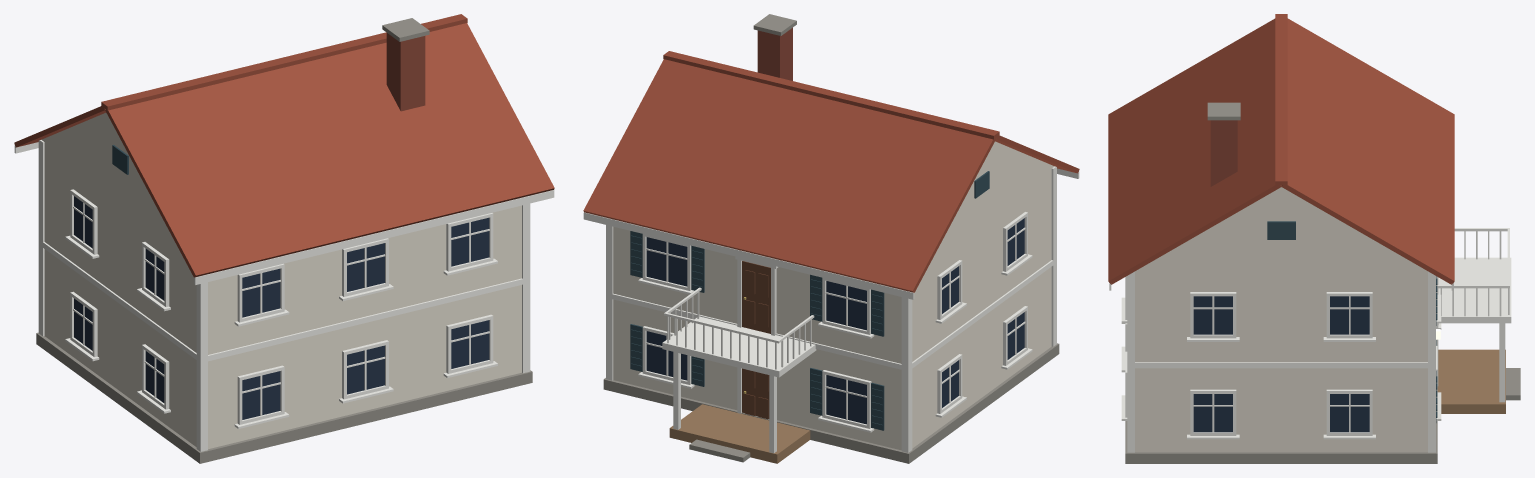
Rendered from house_2f.glb.
3 views of the same model, side by side, from view 1: azimuth 30°, elevation 25°; view 2: azimuth 150°, elevation 25°; view 3: azimuth 270°, elevation 25° (orthographic). The views are drawn at different scales.
Visible parts, largest first — view 1: house_2f__Body; view 2: house_2f__Body; view 3: house_2f__Body.
Boxes of the visible parts, <box> form: house_2f__Body: <box>14,14,554,463</box>; house_2f__Body: <box>583,14,1079,463</box>; house_2f__Body: <box>1108,14,1520,463</box>.
Bounding box in the file's own units: 11.04 × 9.82 × 11.49.
